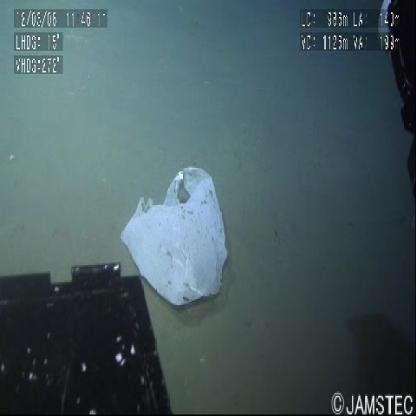Rov: (0, 252, 171, 416), (378, 2, 416, 192)
Rác: (116, 146, 238, 320)
